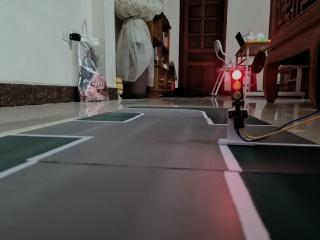red: (221, 59, 249, 124)
